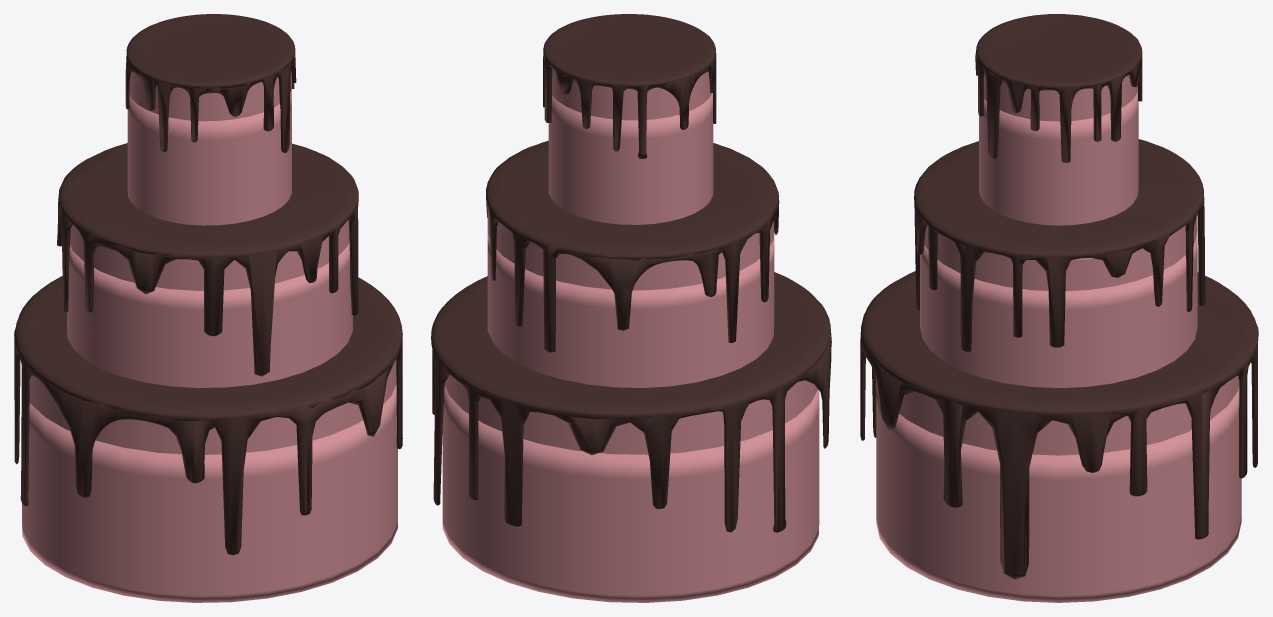
File: 3-tier-blush-ganache-none.glb
The picture shows the model from 3 angles, left to right: view 1: azimuth 30°, elevation 25°; view 2: azimuth 150°, elevation 25°; view 3: azimuth 270°, elevation 25°; orthographic projection.
Parts seen in each view (by area): view 1: Cylinder.022, tHE ICING.005, Cylinder.014, tHE ICING.002, Cylinder.021, tHE ICING.001; view 2: Cylinder.022, tHE ICING.005, Cylinder.014, tHE ICING.002, Cylinder.021, tHE ICING.001; view 3: Cylinder.022, tHE ICING.005, Cylinder.014, tHE ICING.002, Cylinder.021, tHE ICING.001.
Boxes of the visible parts, x1,y1,x2,y2 form: Cylinder.022: [22, 359, 397, 602]; tHE ICING.005: [14, 276, 402, 555]; Cylinder.014: [67, 220, 352, 387]; tHE ICING.002: [57, 143, 358, 376]; Cylinder.021: [127, 70, 291, 225]; tHE ICING.001: [125, 14, 296, 152]; Cylinder.022: [442, 375, 819, 602]; tHE ICING.005: [431, 272, 831, 532]; Cylinder.014: [487, 205, 774, 387]; tHE ICING.002: [486, 140, 779, 352]; Cylinder.021: [548, 69, 713, 224]; tHE ICING.001: [543, 14, 716, 158]; Cylinder.022: [876, 376, 1241, 602]; tHE ICING.005: [860, 271, 1258, 579]; Cylinder.014: [920, 213, 1197, 387]; tHE ICING.002: [914, 139, 1205, 351]; Cylinder.021: [979, 72, 1138, 225]; tHE ICING.001: [975, 14, 1142, 162].
Size of the model in its own units: 4.33 by 5.81 by 4.43.
